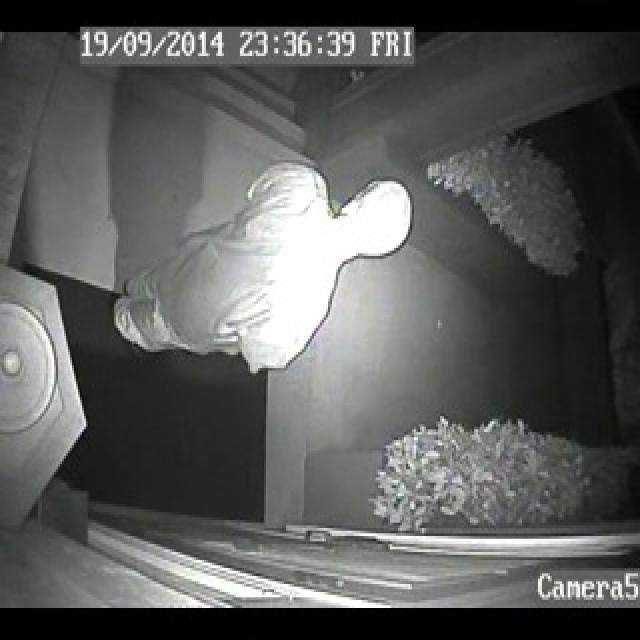thief: (112, 157, 416, 376)
